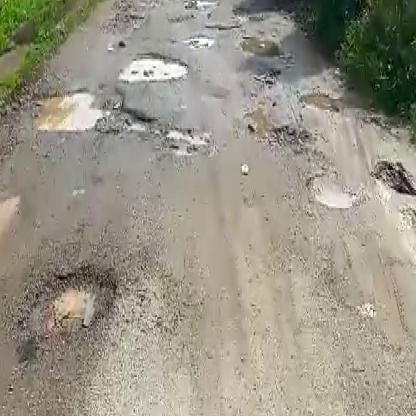pothole: (39, 263, 119, 334), (27, 87, 116, 135), (125, 113, 195, 155), (117, 54, 188, 81), (312, 177, 361, 208)
